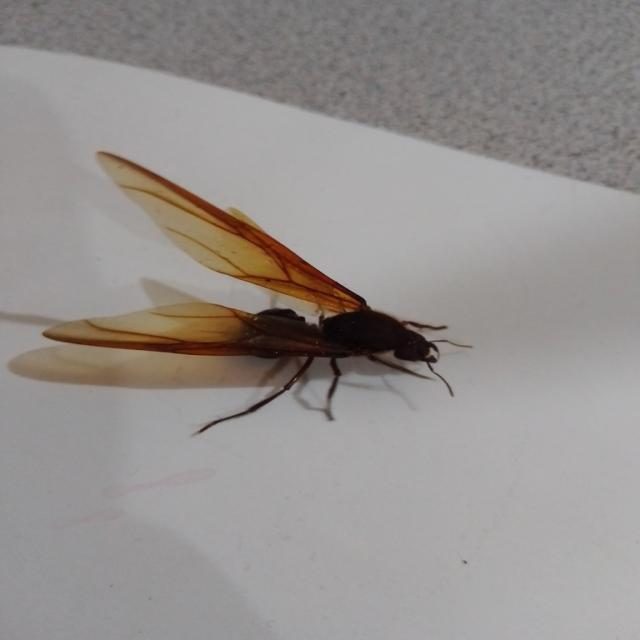Alive-Female-Alate: (42, 150, 474, 434)
